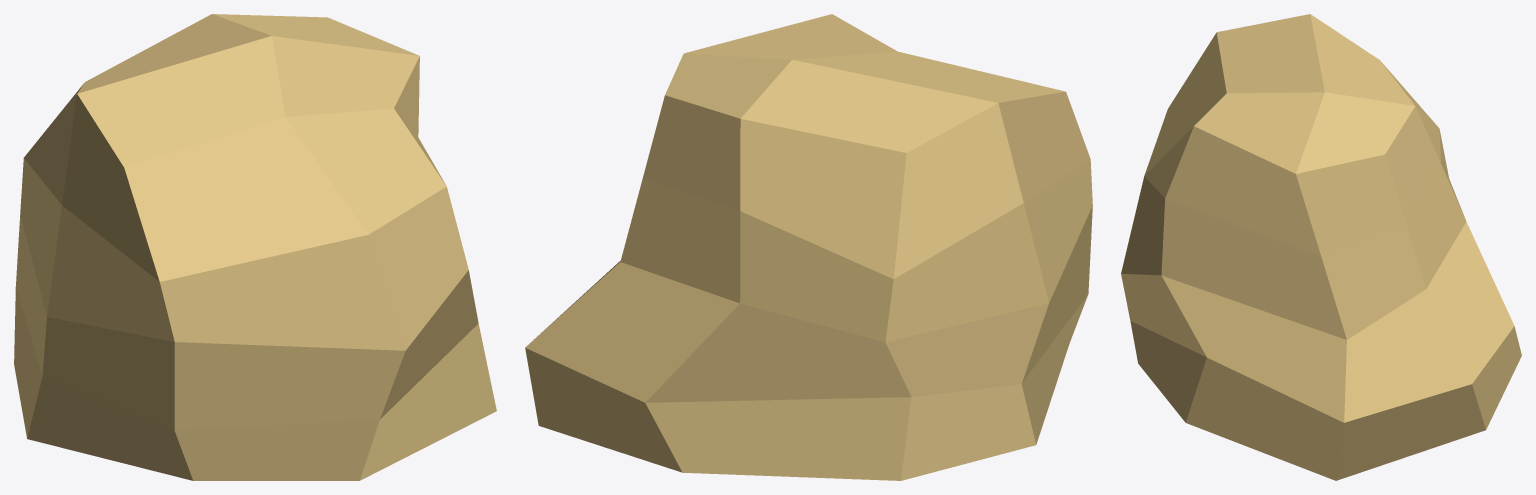
File: stone 2.fbx
The picture shows the model from 3 angles, left to right: view 1: azimuth 30°, elevation 25°; view 2: azimuth 150°, elevation 25°; view 3: azimuth 270°, elevation 25°; orthographic projection. The views are drawn at different scales.
Visible parts, largest first — view 1: Cube; view 2: Cube; view 3: Cube.
Part boxes in pixels (left/top/right/bottom): Cube: left=14, top=14, right=496, bottom=480; Cube: left=525, top=14, right=1092, bottom=480; Cube: left=1121, top=14, right=1521, bottom=480.
Size of the model in its own units: 270 by 223 by 257.
